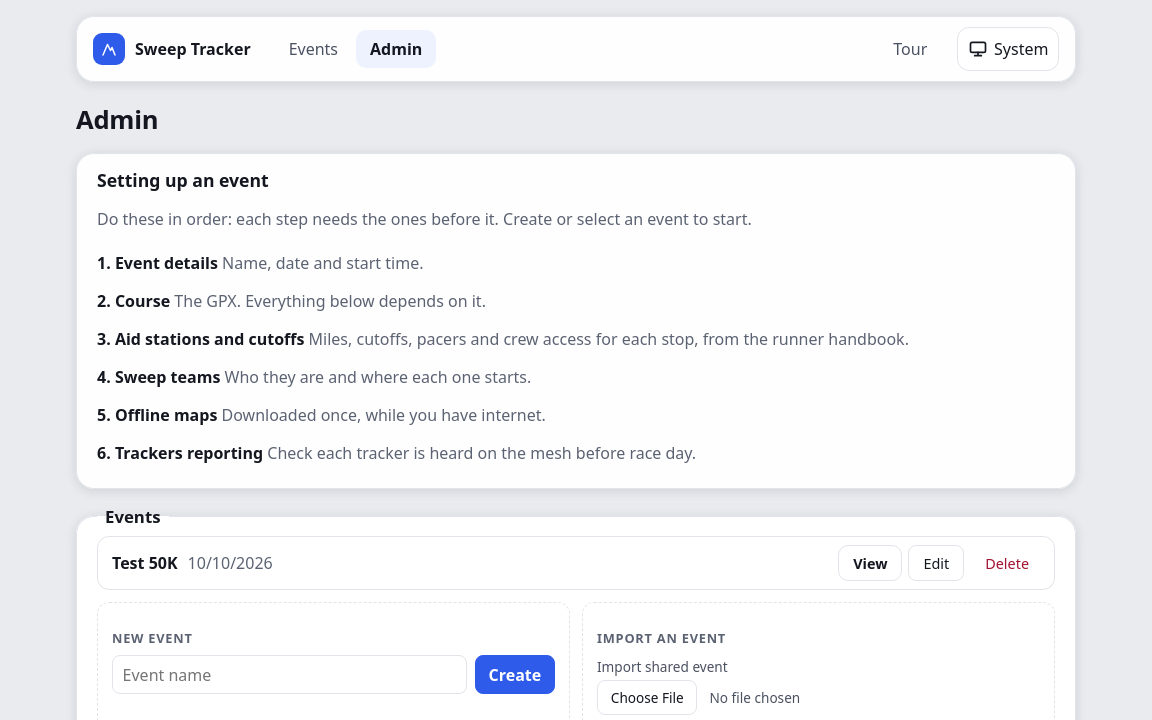
AdminPage › setup guide › says what is waiting on what for an event with nothing set up
Click the button with aria-label "Edit Test 50K" at (936, 563), box left=908, top=545, right=964, bottom=581
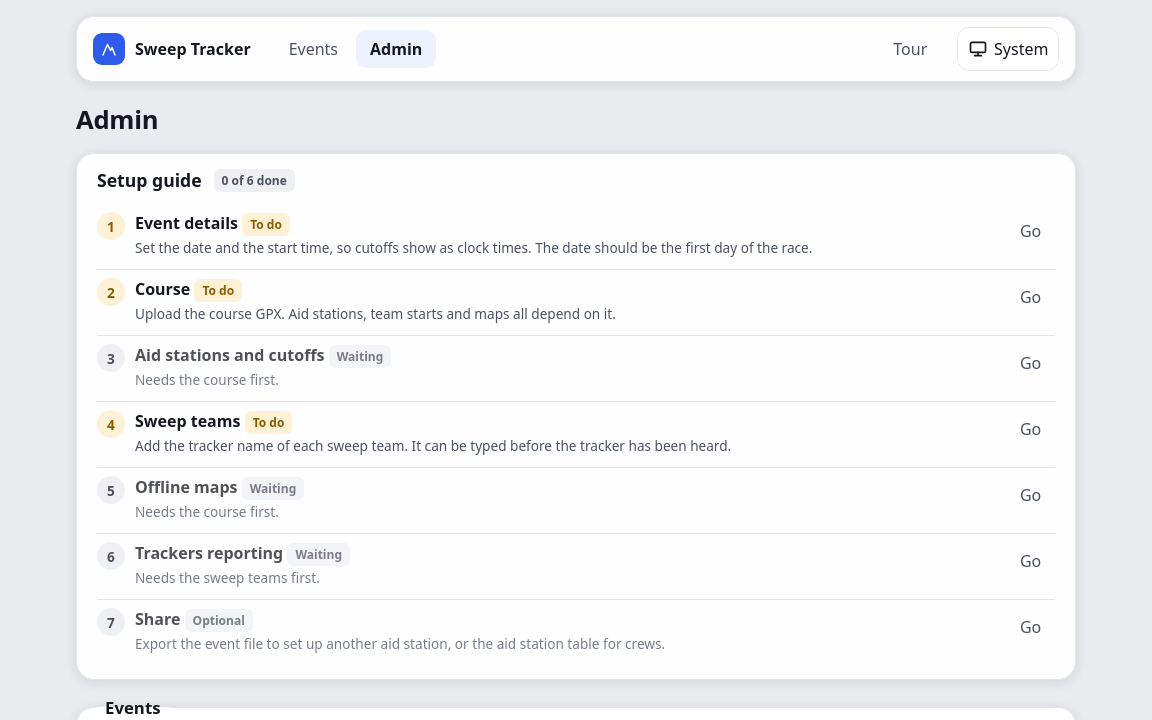
Expected: the 2nd text "To do" is shown, left=194, top=279, right=242, bottom=302
Expected: the text "Waiting" next to "Aid stations and cutoffs" is shown, left=337, top=348, right=383, bottom=365
Expected: the 2nd text "Waiting" is shown, left=242, top=477, right=304, bottom=500
